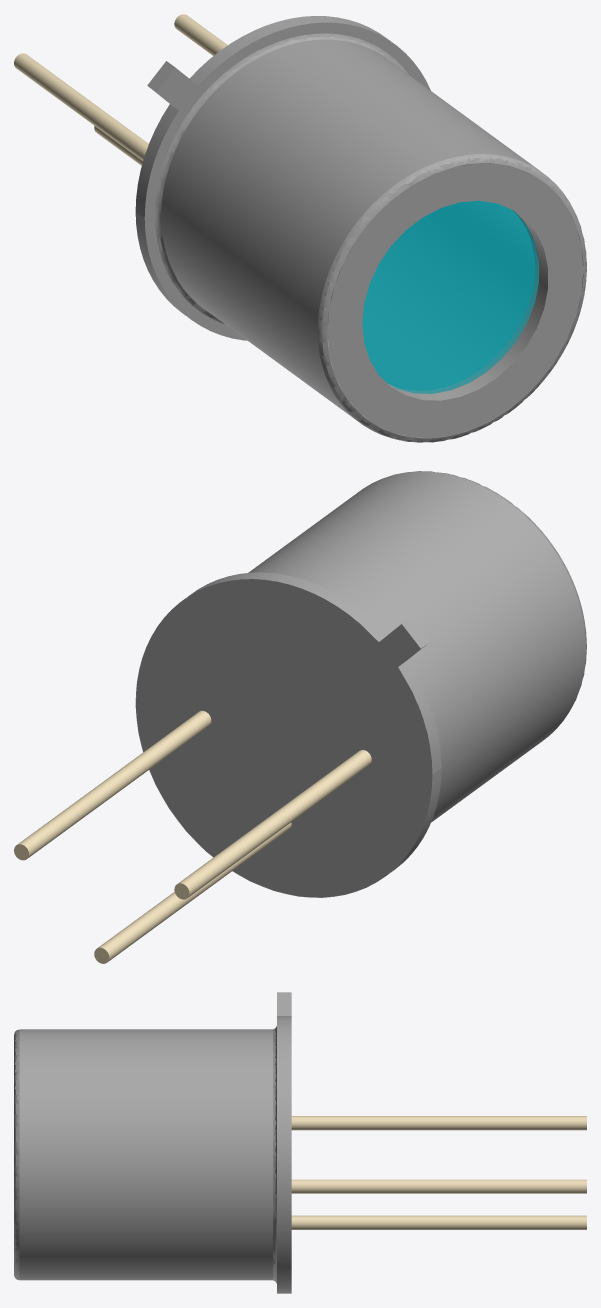
Rendered from TO-11-3_Window.glb.
3 views of the same model, one above another, from view 1: azimuth 30°, elevation 25°; view 2: azimuth 150°, elevation 25°; view 3: azimuth 270°, elevation 25° (orthographic). The views are drawn at different scales.
Visible parts, largest first — view 1: Shape_IndexedFaceSet.015, Shape_IndexedFaceSet.022, Shape_IndexedFaceSet.020, Shape_IndexedFaceSet.025, Shape_IndexedFaceSet.024, Shape_IndexedFaceSet.019, Shape_IndexedFaceSet.010, Shape_IndexedFaceSet.011, Shape_IndexedFaceSet.012, Shape_IndexedFaceSet.006, Shape_IndexedFaceSet.021, Shape_IndexedFaceSet.005 (+2 smaller); view 2: Shape_IndexedFaceSet.009, Shape_IndexedFaceSet.015, Shape_IndexedFaceSet.007, Shape_IndexedFaceSet.014, Shape_IndexedFaceSet.012, Shape_IndexedFaceSet.006, Shape_IndexedFaceSet.013, Shape_IndexedFaceSet.005, Shape_IndexedFaceSet.003; view 3: Shape_IndexedFaceSet.015, Shape_IndexedFaceSet.012, Shape_IndexedFaceSet.013, Shape_IndexedFaceSet.014, Shape_IndexedFaceSet.006, Shape_IndexedFaceSet.019, Shape_IndexedFaceSet.011.
Part boxes in pixels (bbox=[...]): Shape_IndexedFaceSet.015: bbox=[161, 39, 583, 438]; Shape_IndexedFaceSet.022: bbox=[362, 200, 538, 393]; Shape_IndexedFaceSet.020: bbox=[327, 163, 583, 438]; Shape_IndexedFaceSet.025: bbox=[362, 201, 534, 390]; Shape_IndexedFaceSet.024: bbox=[327, 168, 534, 390]; Shape_IndexedFaceSet.019: bbox=[317, 154, 586, 442]; Shape_IndexedFaceSet.010: bbox=[144, 23, 429, 340]; Shape_IndexedFaceSet.011: bbox=[155, 33, 407, 324]; Shape_IndexedFaceSet.012: bbox=[14, 53, 148, 160]; Shape_IndexedFaceSet.006: bbox=[135, 16, 430, 340]; Shape_IndexedFaceSet.021: bbox=[390, 213, 547, 400]; Shape_IndexedFaceSet.005: bbox=[135, 104, 178, 217]; Shape_IndexedFaceSet.009: bbox=[135, 579, 432, 897]; Shape_IndexedFaceSet.015: bbox=[248, 471, 585, 822]; Shape_IndexedFaceSet.007: bbox=[274, 642, 397, 750]; Shape_IndexedFaceSet.014: bbox=[17, 710, 211, 858]; Shape_IndexedFaceSet.012: bbox=[178, 750, 371, 898]; Shape_IndexedFaceSet.006: bbox=[135, 572, 441, 897]; Shape_IndexedFaceSet.013: bbox=[98, 822, 291, 961]; Shape_IndexedFaceSet.005: bbox=[398, 660, 441, 774]; Shape_IndexedFaceSet.003: bbox=[379, 624, 420, 666]; Shape_IndexedFaceSet.015: bbox=[19, 1029, 272, 1280]; Shape_IndexedFaceSet.012: bbox=[291, 1116, 586, 1130]; Shape_IndexedFaceSet.013: bbox=[291, 1215, 586, 1229]; Shape_IndexedFaceSet.014: bbox=[291, 1179, 586, 1193]; Shape_IndexedFaceSet.006: bbox=[277, 1016, 291, 1293]; Shape_IndexedFaceSet.019: bbox=[14, 1029, 19, 1280]; Shape_IndexedFaceSet.011: bbox=[273, 1026, 276, 1283].
Bounding box in the file's own units: 3.7 × 3.7 × 7.64.
